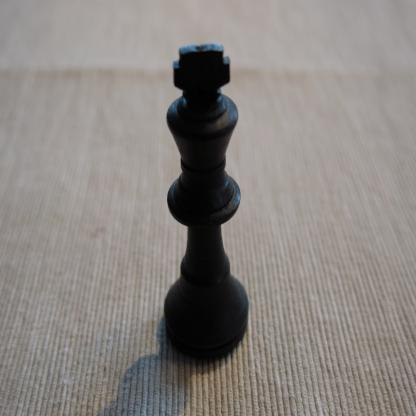black-king: (163, 41, 250, 363)
